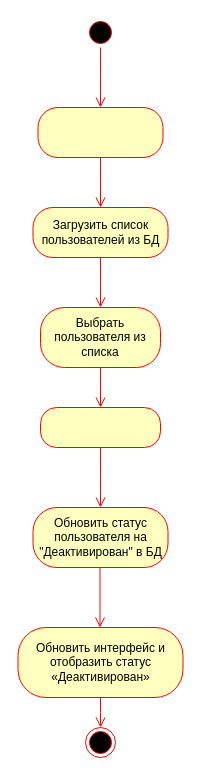
Some shapes in this 200 by 775 pixel diagram are drawn without their labels. The box of each missing label's shape, as (x1, y1, x2, y2) in pixels:
Нажать кнопку "Деактивировать": (40, 406, 160, 448)
Открыть страницу администрирования: (37, 106, 163, 158)
